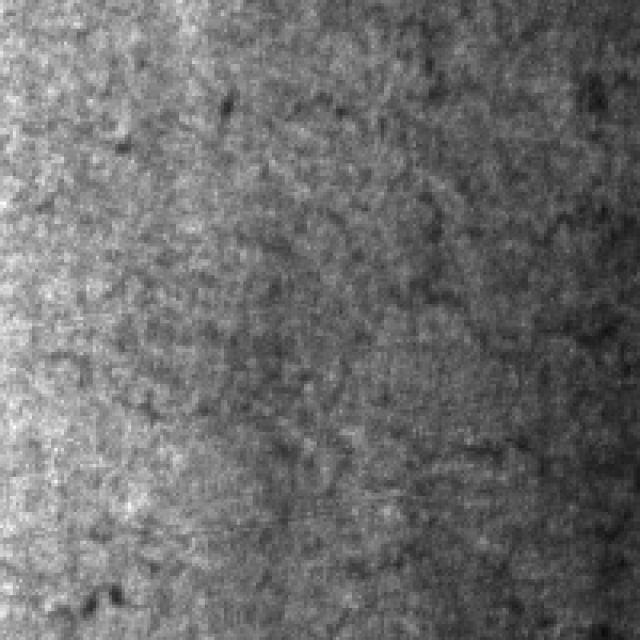crazing: (234, 160, 636, 490)
